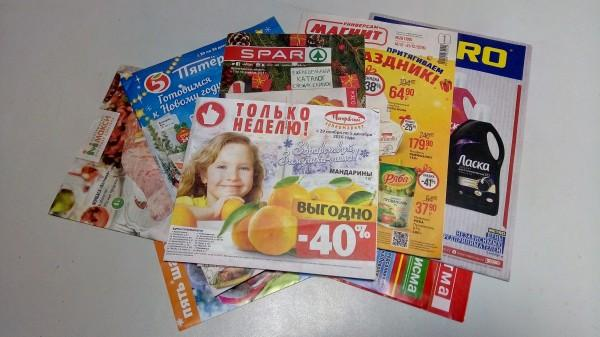paper: (62, 18, 522, 325)
